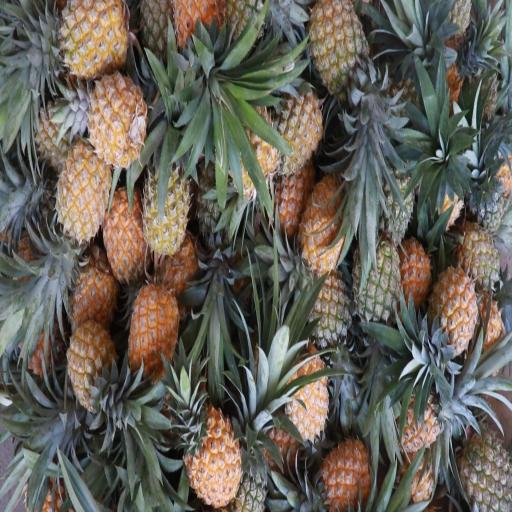------------------------------: (304, 0, 373, 98), (297, 251, 353, 358), (139, 134, 189, 249), (452, 209, 502, 301)
Pineapple - v8 v1: (178, 390, 241, 512), (35, 0, 129, 81), (82, 65, 145, 178), (269, 308, 328, 425), (48, 136, 109, 248), (298, 158, 356, 275), (312, 416, 378, 510), (124, 286, 180, 394), (428, 249, 478, 364), (270, 75, 324, 172), (101, 190, 153, 290), (63, 320, 113, 419)
